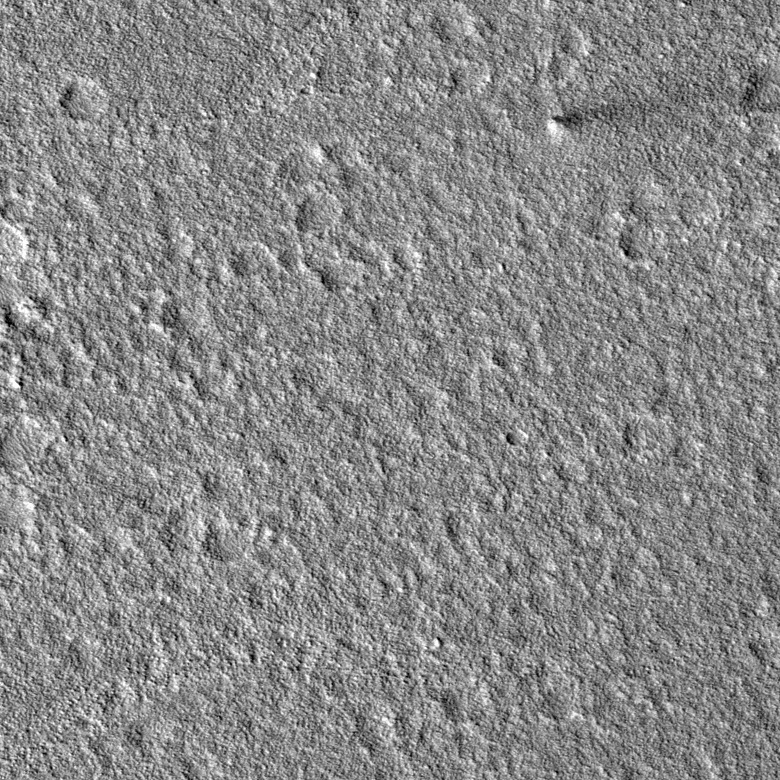dust_devil: (544, 103, 614, 140)
